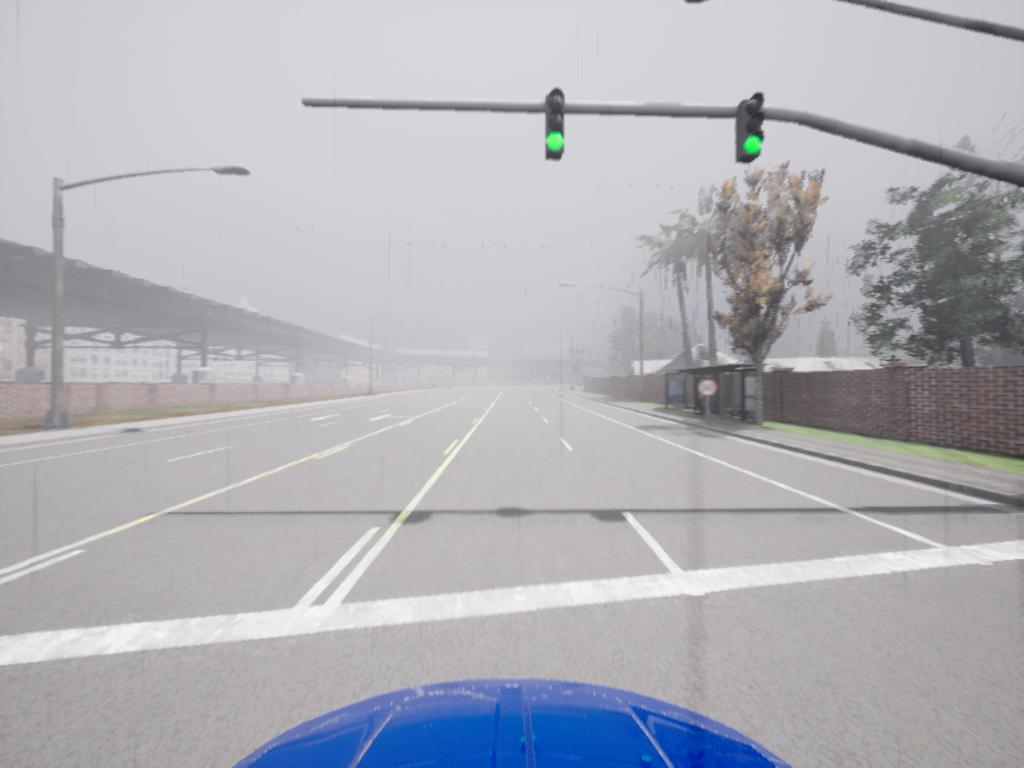traffic_light: (741, 94, 768, 163), (546, 90, 567, 158)
